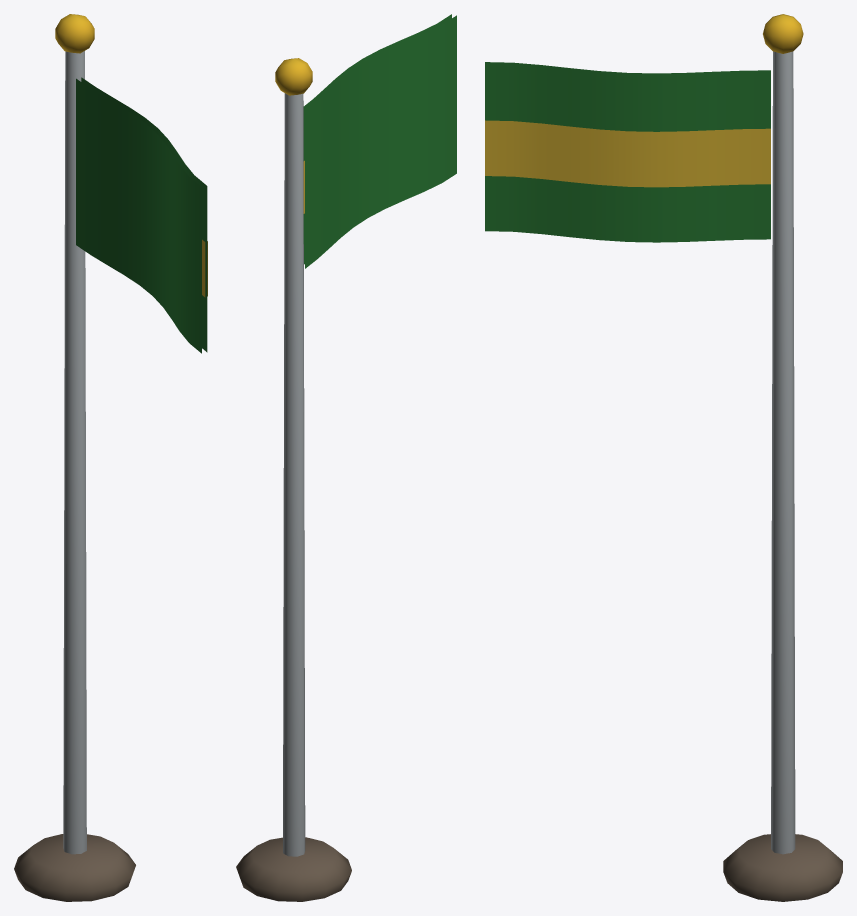
The model's file is fe-flag-au.glb.
3 views of the same model, side by side, from view 1: azimuth 30°, elevation 25°; view 2: azimuth 150°, elevation 25°; view 3: azimuth 270°, elevation 25° (orthographic). The views are drawn at different scales.
Visible parts, largest first — view 1: fe-flag-au; view 2: fe-flag-au; view 3: fe-flag-au.
Boxes of the visible parts, x1,y1,x2,y2 form: fe-flag-au: (14,14,207,901); fe-flag-au: (236,14,456,901); fe-flag-au: (485,14,842,901).
Bounding box in the file's own units: 0.3 × 2.33 × 0.8762.
